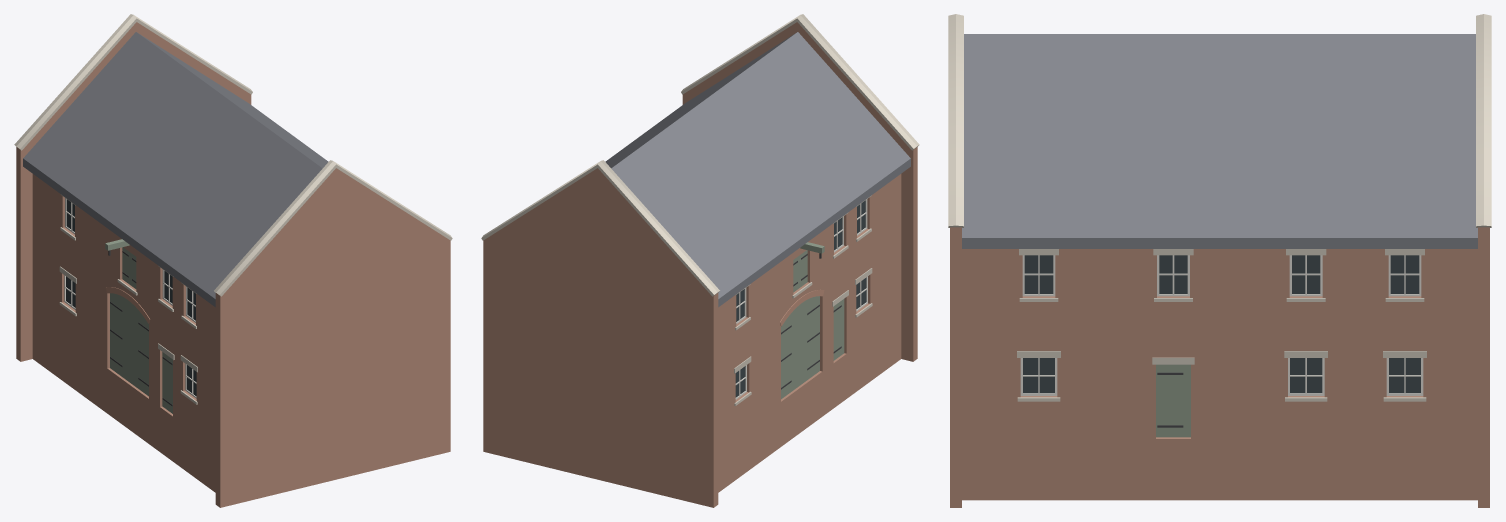
File: rothschild_house_2112_prairie_coach_house__as_standing_1904.glb
3 views of the same model, side by side, from view 1: azimuth 30°, elevation 25°; view 2: azimuth 150°, elevation 25°; view 3: azimuth 270°, elevation 25° (orthographic). The views are drawn at different scales.
Visible parts, largest first — view 1: rothschild_house_2112_prairie_coach_house__as_standing_1904; view 2: rothschild_house_2112_prairie_coach_house__as_standing_1904; view 3: rothschild_house_2112_prairie_coach_house__as_standing_1904.
Boxes of the visible parts, bbox=[...] form: rothschild_house_2112_prairie_coach_house__as_standing_1904: bbox=[14, 14, 452, 507]; rothschild_house_2112_prairie_coach_house__as_standing_1904: bbox=[481, 14, 919, 507]; rothschild_house_2112_prairie_coach_house__as_standing_1904: bbox=[948, 14, 1491, 507].
Bounding box in the file's own units: 10.1 × 12.65 × 14.85.
